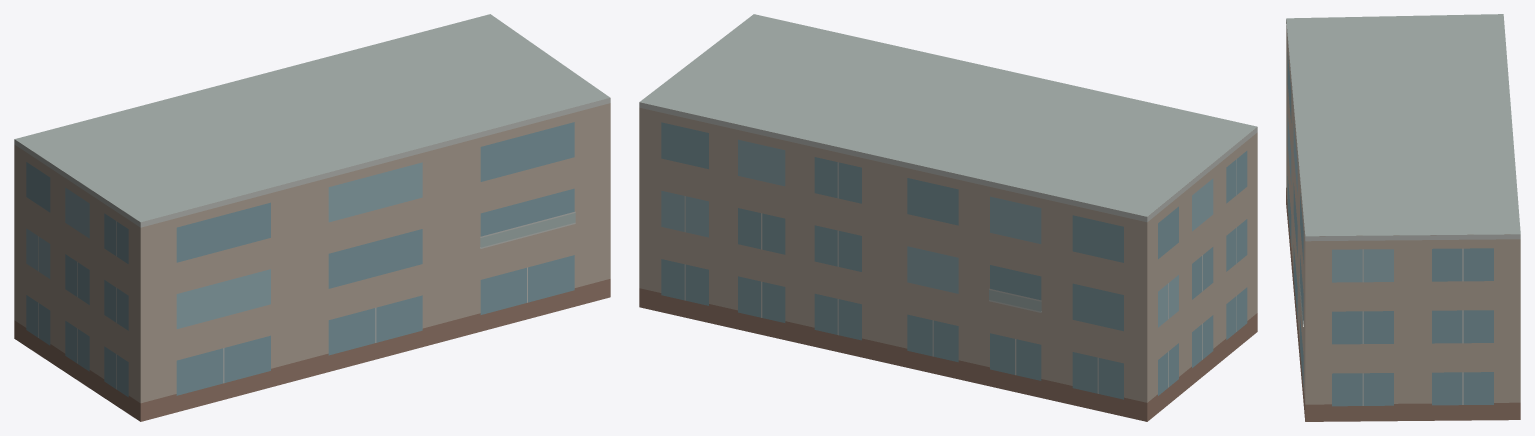
File: survey-upis-32857377.glb
3 renders of one model, left to right at view 1: azimuth 30°, elevation 25°; view 2: azimuth 150°, elevation 25°; view 3: azimuth 270°, elevation 25°, orthographic. The views are drawn at different scales.
Parts seen in each view (by area): view 1: survey-upis-32857377.tmp; view 2: survey-upis-32857377.tmp; view 3: survey-upis-32857377.tmp.
Part boxes in pixels (<box>): survey-upis-32857377.tmp: <box>14,14,610,421</box>; survey-upis-32857377.tmp: <box>639,14,1257,421</box>; survey-upis-32857377.tmp: <box>1286,14,1520,421</box>.
Bounding box in the file's own units: 23.5 × 9.15 × 10.49.
